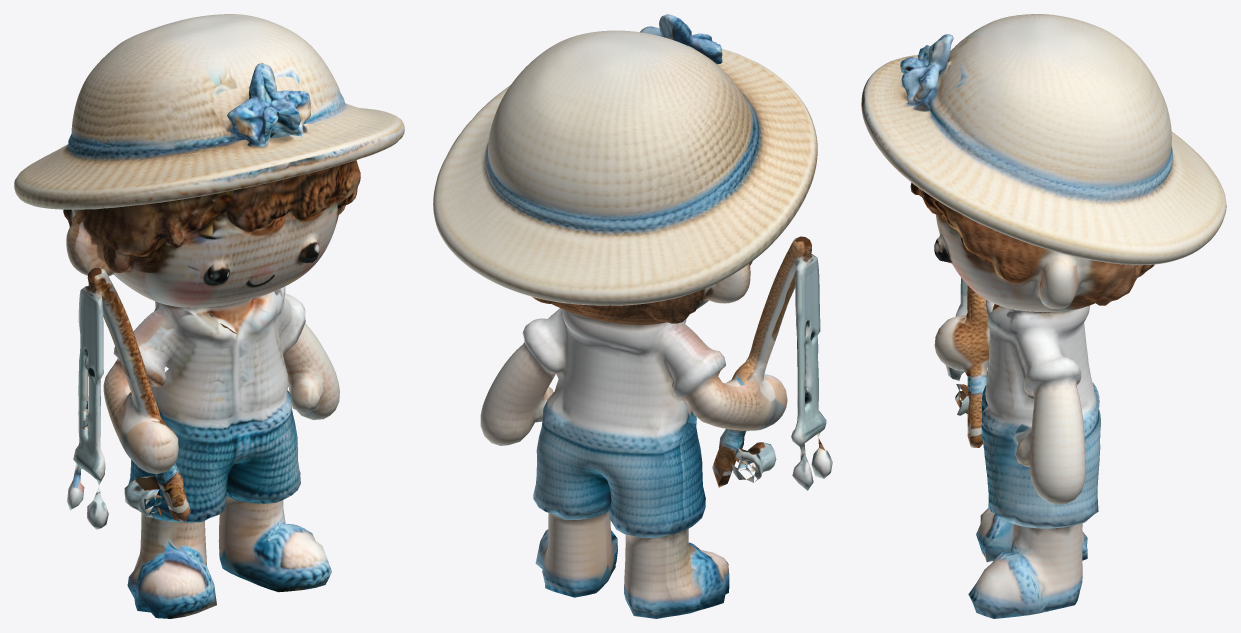
The model's file is crochetboydoll.glb.
The picture shows the model from 3 angles, left to right: view 1: azimuth 30°, elevation 25°; view 2: azimuth 150°, elevation 25°; view 3: azimuth 270°, elevation 25°; orthographic projection.
Parts seen in each view (by area): view 1: Amigurumi Boy; view 2: Amigurumi Boy; view 3: Amigurumi Boy.
Part boxes in pixels (x1,y1,x2,y2): Amigurumi Boy: (14, 14, 404, 618); Amigurumi Boy: (433, 14, 832, 618); Amigurumi Boy: (861, 14, 1226, 618).
Size of the model in its own units: 0.1591 by 0.25 by 0.1526.
Materials: 1 (1 with a texture image).
